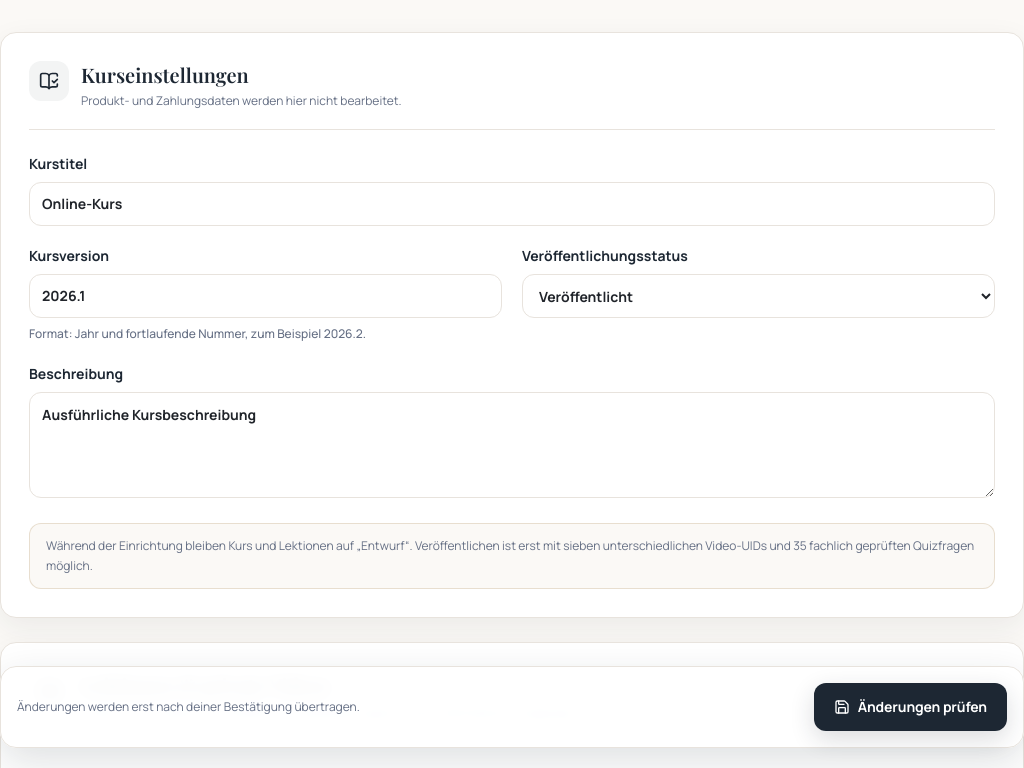
it: Admin-Kursverwaltung › zeigt einen Serverfehler direkt im geöffneten Speicherdialog
Check: the heading "Kurseinstellungen" is shown, box [81, 61, 249, 88]
Click the button "Änderungen prüfen": (910, 707) [814, 683, 1007, 731]
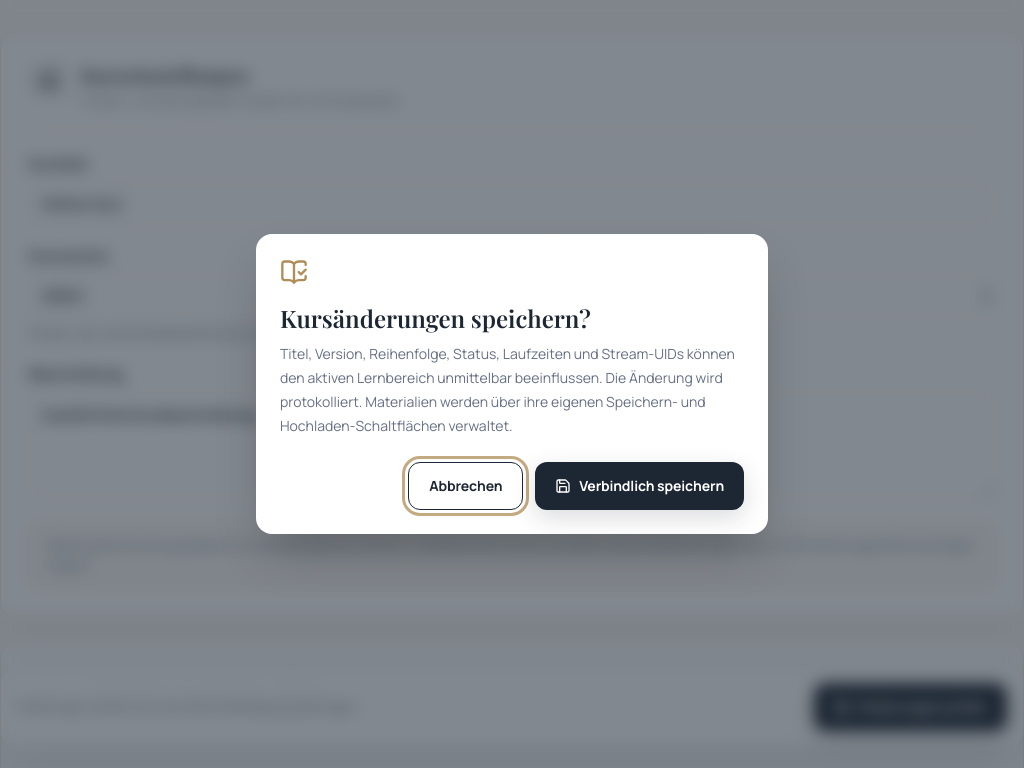
Click the button "Verbindlich speichern": (640, 486) [535, 462, 744, 510]
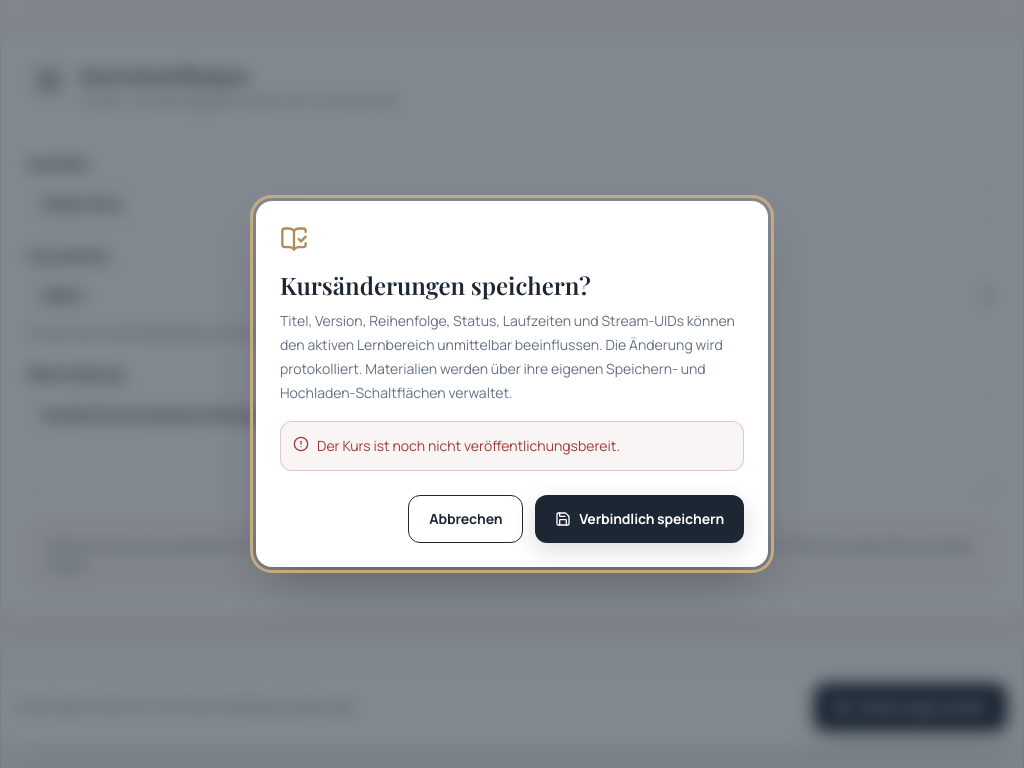
Check: the heading "Kursänderungen speichern?" is shown, box [280, 269, 591, 301]
Check: the text "Der Kurs ist noch nicht veröffentlichungsbereit." is shown, box [280, 421, 744, 471]
